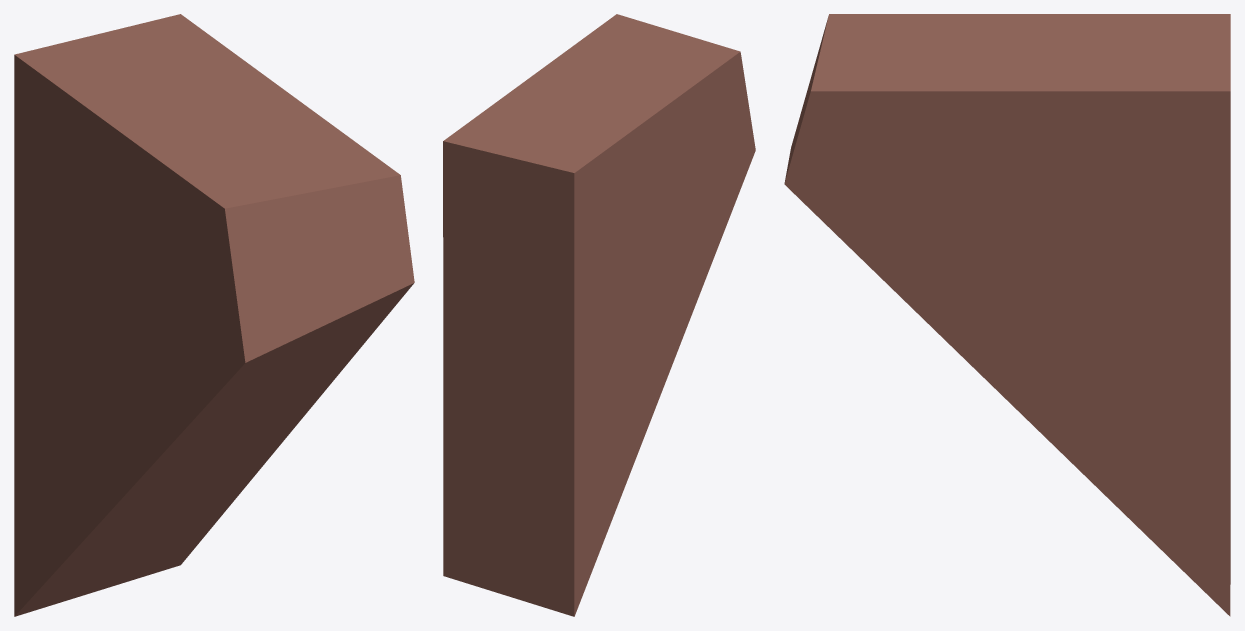
Rendered from T_MurDetruit_7.6.fbx.
3 renders of one model, left to right at view 1: azimuth 30°, elevation 25°; view 2: azimuth 150°, elevation 25°; view 3: azimuth 270°, elevation 25°, orthographic. The views are drawn at different scales.
Visible parts, largest first — view 1: T_MurDetruit_7.6; view 2: T_MurDetruit_7.6; view 3: T_MurDetruit_7.6.
Boxes of the visible parts, <box> form: T_MurDetruit_7.6: <box>14,14,414,616</box>; T_MurDetruit_7.6: <box>443,14,755,616</box>; T_MurDetruit_7.6: <box>784,14,1230,616</box>.
Size of the model in its own units: 13.48 by 43.52 by 32.82.
